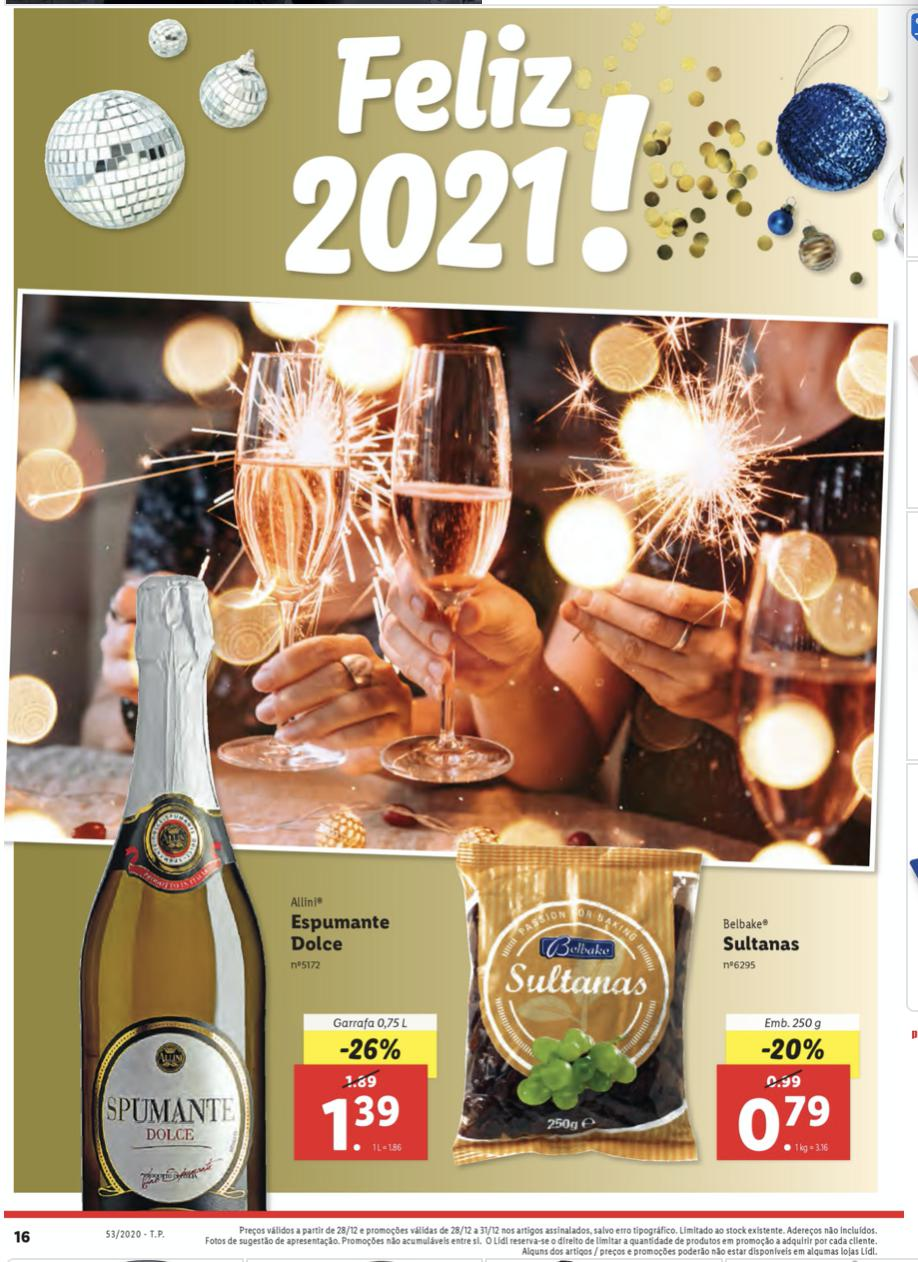name: (279, 910, 398, 952), (716, 930, 813, 960)
price: (734, 1089, 840, 1161), (318, 1091, 415, 1161)
product: (68, 567, 446, 1188), (446, 825, 877, 1188)
promotion: (332, 1032, 404, 1063), (760, 1035, 830, 1064)
